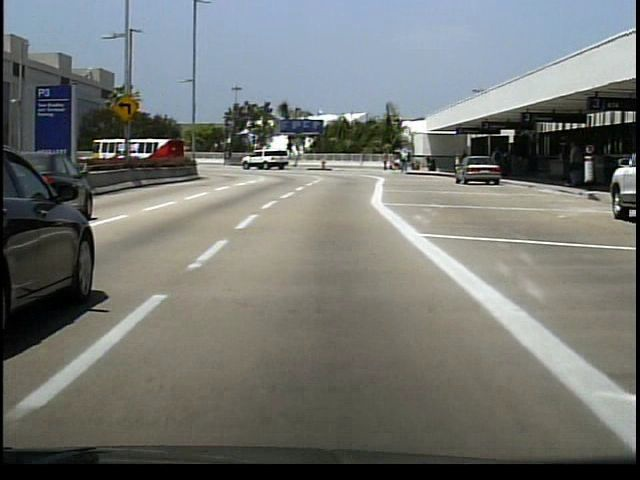person: (565, 136, 587, 191), (491, 149, 507, 183), (400, 146, 410, 175), (382, 148, 390, 172)
